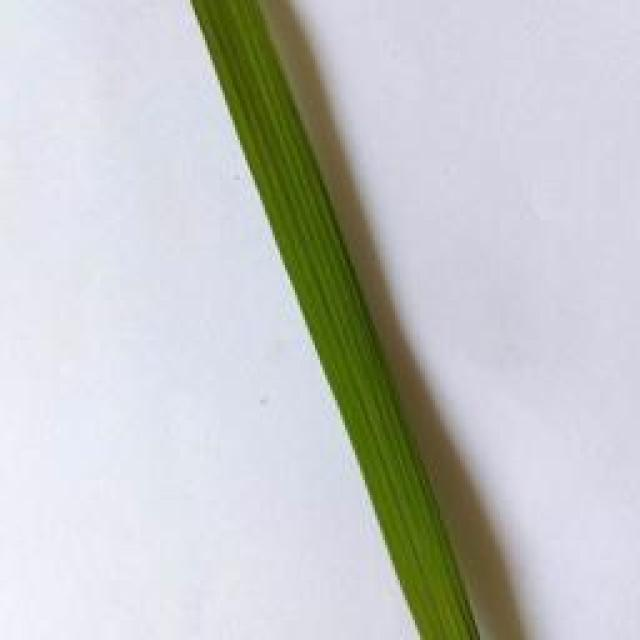Healthy-Plant: (191, 3, 479, 640)
